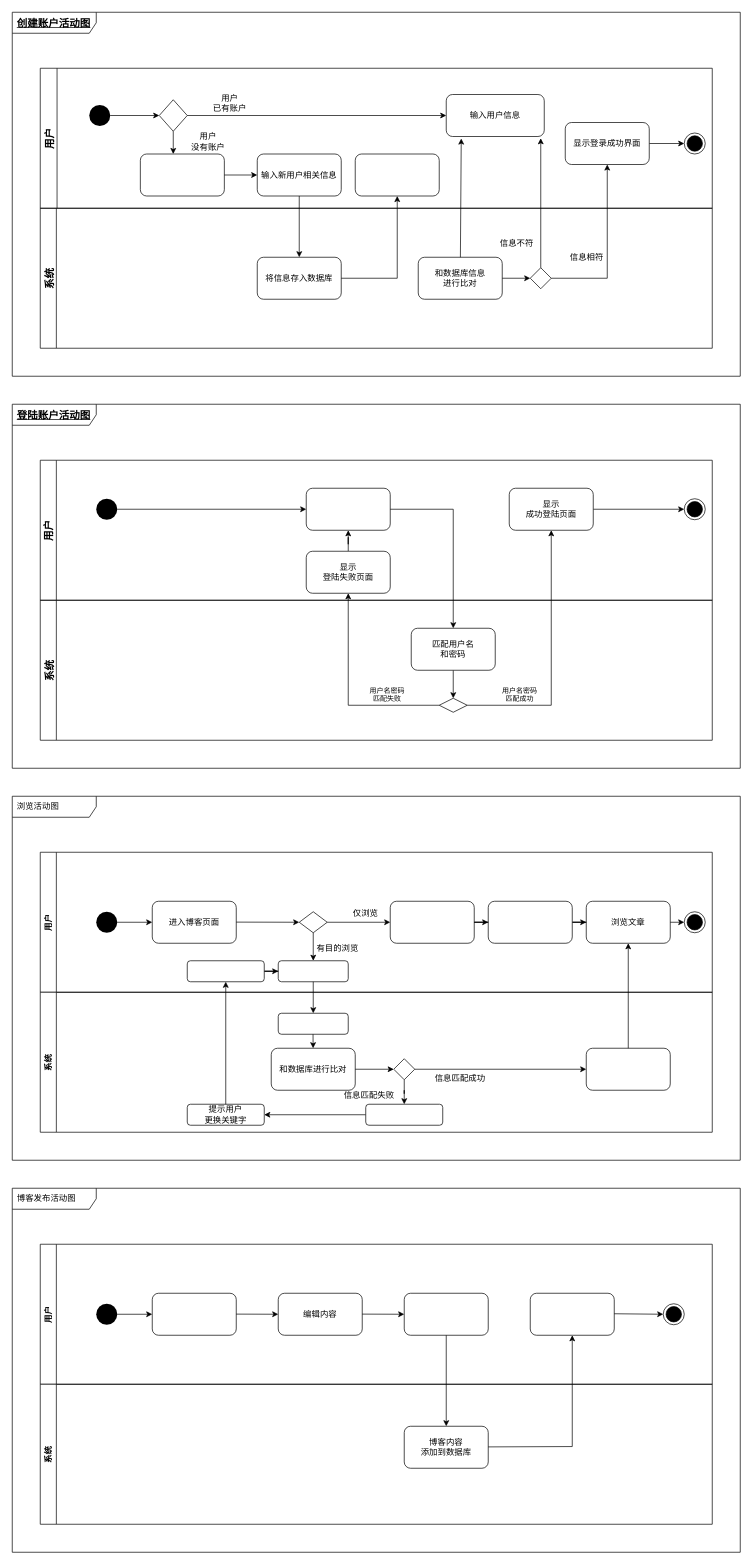
This 753x1565 diagram has some shape labels left out. The shapes that lost their labels are listed below. From the top down, each one's centre as x and y in pixels, then its label:
pixel 182 174: 执行注册新用户操作
pixel 397 174: 显示注册成功页面
pixel 348 509: 输入账户信息
pixel 432 922: 文章选择列表
pixel 530 922: 选择文章
pixel 225 971: 更换关键字
pixel 313 971: 搜索 （输入关键字）
pixel 313 1023: 接收关键字
pixel 628 1069: 返回文章给用户
pixel 404 1114: 返回 未找到关键字信息
pixel 194 1314: 进入内容编辑页面
pixel 446 1314: 发布内容
pixel 572 1314: 显示上传成功界面
